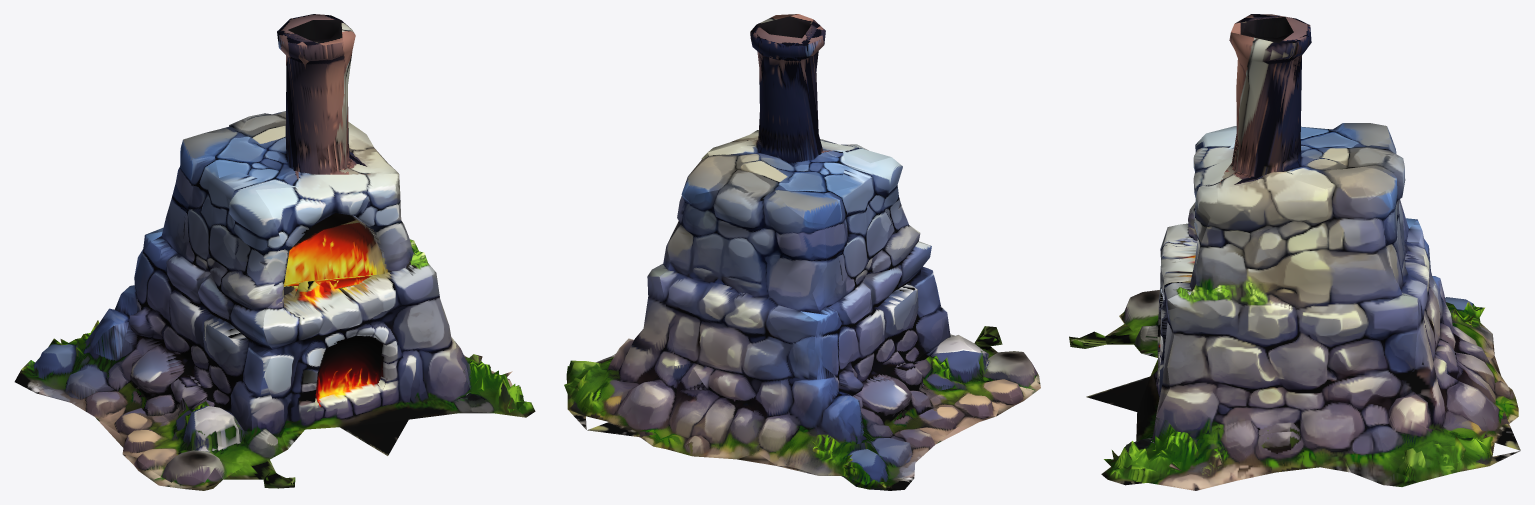
The model's file is factory_smelter.glb.
The picture shows the model from 3 angles, left to right: view 1: azimuth 30°, elevation 25°; view 2: azimuth 150°, elevation 25°; view 3: azimuth 270°, elevation 25°; orthographic projection. The views are drawn at different scales.
Parts seen in each view (by area): view 1: world; view 2: world; view 3: world.
Boxes of the visible parts, box(x1,y1,x2,y2) form: world: box(14, 14, 535, 490); world: box(564, 14, 1040, 490); world: box(1069, 14, 1520, 490).
Bounding box in the file's own units: 0.9953 × 0.9359 × 0.9776.
Materials: 1 (1 with a texture image).
